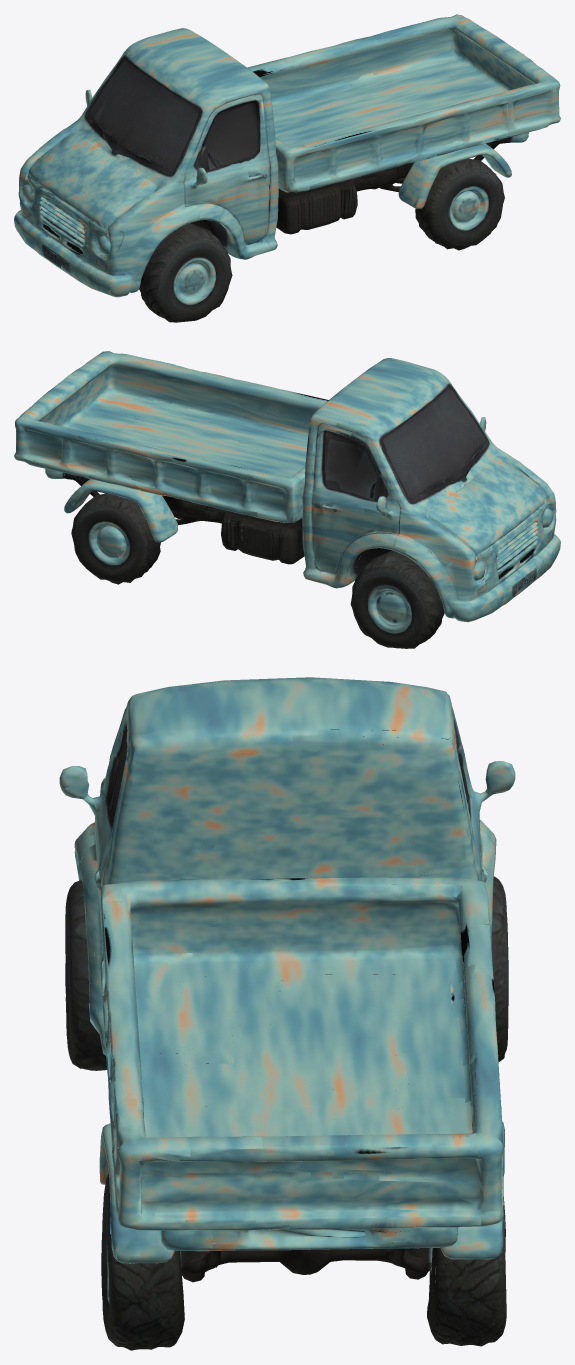
File: truck.glb
3 renders of one model, top to bottom at view 1: azimuth 30°, elevation 25°; view 2: azimuth 150°, elevation 25°; view 3: azimuth 270°, elevation 25°, orthographic. The views are drawn at different scales.
Parts seen in each view (by area): view 1: V17_TRUCK__TRUCK_FINAL, WHEEL_RL, WHEEL_FL, WHEEL_RR; view 2: V17_TRUCK__TRUCK_FINAL, WHEEL_RR, WHEEL_FR; view 3: V17_TRUCK__TRUCK_FINAL, WHEEL_RR, WHEEL_RL, WHEEL_FL, WHEEL_FR.
Boxes of the visible parts, x1,y1,x2,y2 form: V17_TRUCK__TRUCK_FINAL: (14, 14, 560, 308); WHEEL_RL: (398, 137, 511, 250); WHEEL_FL: (136, 223, 232, 322); WHEEL_RR: (348, 72, 392, 88); V17_TRUCK__TRUCK_FINAL: (14, 351, 560, 648); WHEEL_RR: (64, 471, 177, 584); WHEEL_FR: (336, 539, 443, 648); V17_TRUCK__TRUCK_FINAL: (59, 677, 515, 1350); WHEEL_RR: (441, 1098, 506, 1339); WHEEL_RL: (99, 1102, 165, 1339); WHEEL_FL: (65, 849, 89, 1063); WHEEL_FR: (476, 837, 508, 1061).
Size of the model in its own units: 4.52 by 1.98 by 1.93.
Materials: 1 (1 with a texture image).
